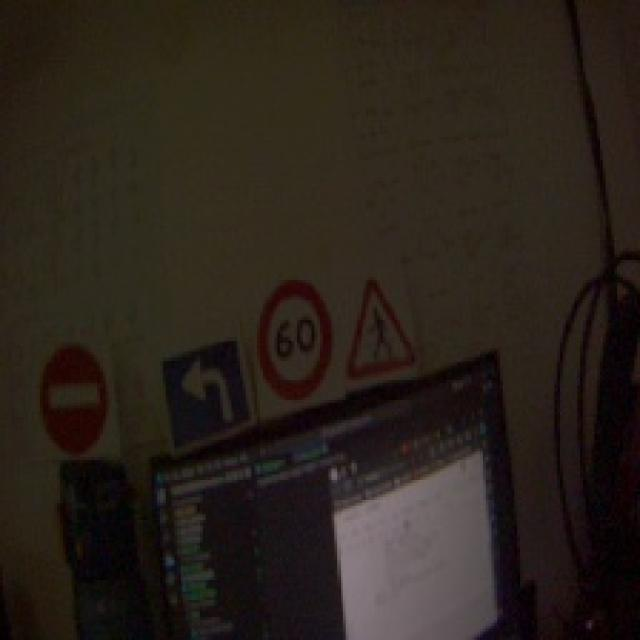DoNotEnterSign: (36, 343, 111, 449)
